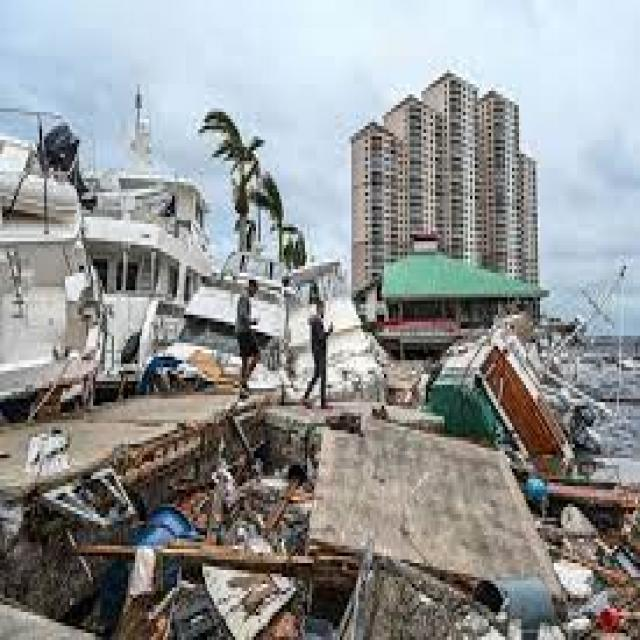Hurricane: (93, 134, 596, 603)
